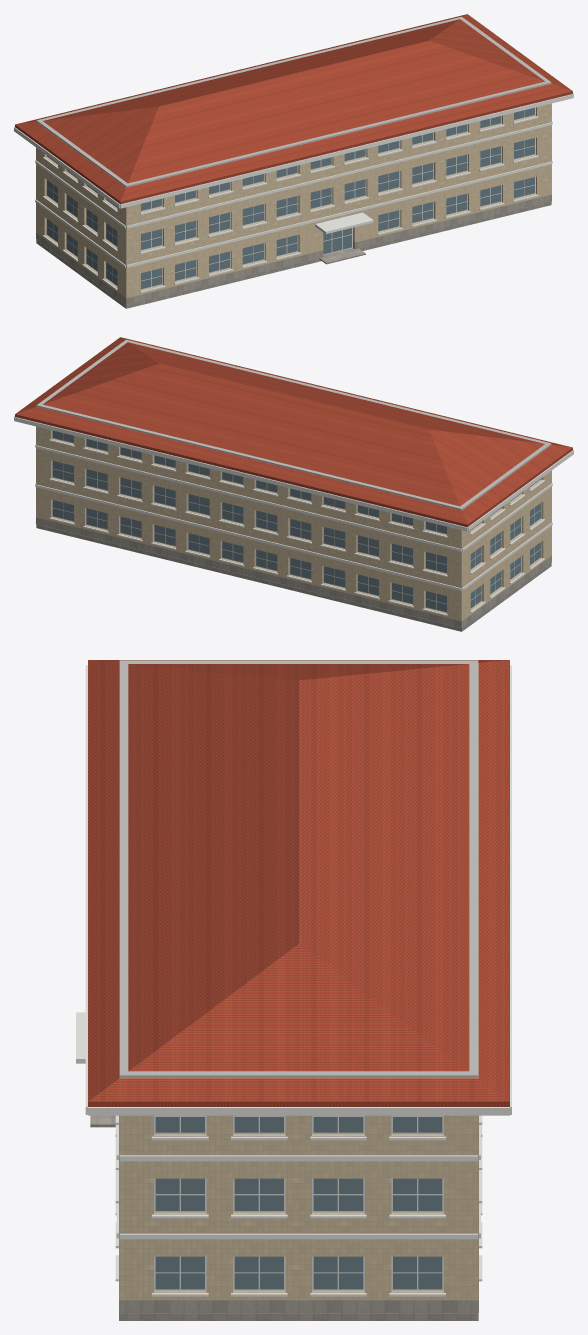
3 renders of one model, top to bottom at view 1: azimuth 30°, elevation 25°; view 2: azimuth 150°, elevation 25°; view 3: azimuth 270°, elevation 25°, orthographic. The views are drawn at different scales.
Parts seen in each view (by area): view 1: senior-girls__roof, senior-girls__tile, senior-girls__glass, senior-girls__trim, senior-girls__stone, senior-girls__slab, senior-girls__frame, senior-girls__threshold-front; view 2: senior-girls__roof, senior-girls__tile, senior-girls__glass, senior-girls__trim, senior-girls__stone, senior-girls__slab, senior-girls__frame; view 3: senior-girls__roof, senior-girls__tile, senior-girls__glass, senior-girls__trim, senior-girls__slab, senior-girls__stone, senior-girls__frame.
Boxes of the visible parts, bbox=[...] form: senior-girls__roof: bbox=[15, 14, 572, 204]; senior-girls__tile: bbox=[36, 85, 551, 298]; senior-girls__glass: bbox=[47, 107, 534, 289]; senior-girls__trim: bbox=[14, 93, 573, 292]; senior-girls__stone: bbox=[36, 194, 551, 308]; senior-girls__slab: bbox=[36, 16, 551, 187]; senior-girls__frame: bbox=[46, 107, 535, 289]; senior-girls__threshold-front: bbox=[319, 248, 365, 264]; senior-girls__roof: bbox=[15, 337, 572, 527]; senior-girls__tile: bbox=[36, 408, 551, 621]; senior-girls__glass: bbox=[53, 430, 540, 612]; senior-girls__trim: bbox=[14, 416, 573, 615]; senior-girls__stone: bbox=[36, 517, 551, 631]; senior-girls__slab: bbox=[36, 339, 551, 510]; senior-girls__frame: bbox=[52, 430, 541, 612]; senior-girls__roof: bbox=[88, 660, 509, 1106]; senior-girls__tile: bbox=[119, 663, 478, 1300]; senior-girls__glass: bbox=[155, 1117, 442, 1289]; senior-girls__trim: bbox=[76, 665, 511, 1296]; senior-girls__slab: bbox=[119, 660, 478, 1077]; senior-girls__stone: bbox=[119, 1300, 478, 1320]; senior-girls__frame: bbox=[154, 1115, 443, 1290].
Bounding box in the file's own units: 43.78 × 13.86 × 18.19.
8 materials, 3 textured.
